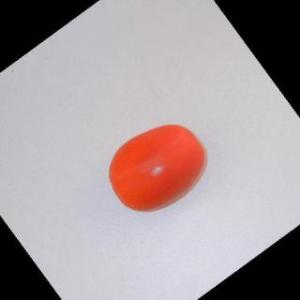tomato: (96, 110, 222, 227)
